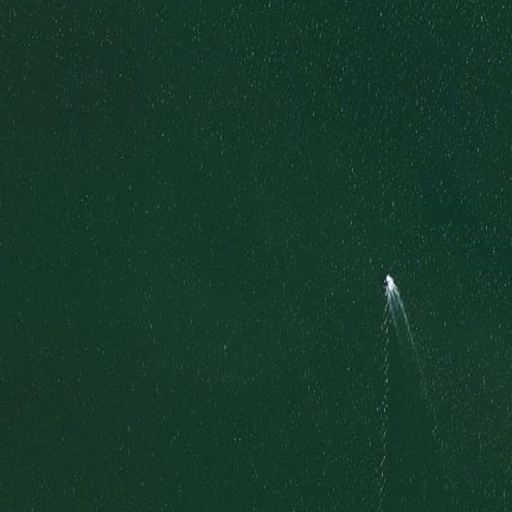ship: (383, 273, 399, 296)
